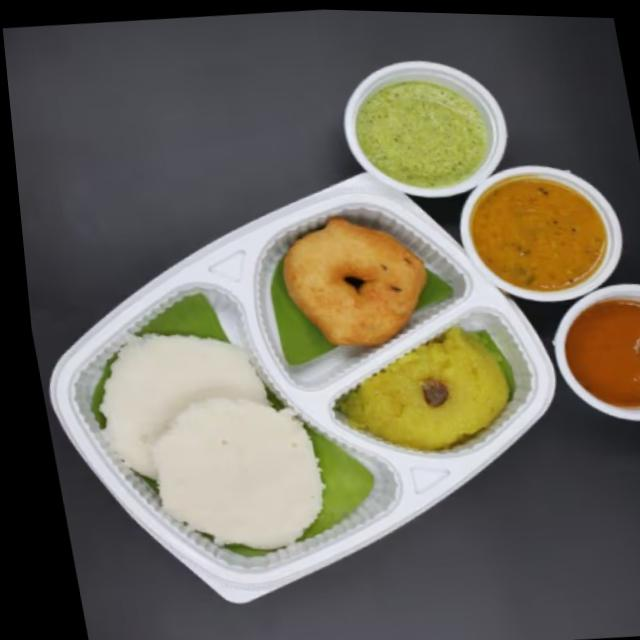GREEN CHUTNEY: (355, 80, 486, 186)
IDLI: (95, 332, 320, 549)
RED CHUTNEY: (566, 299, 640, 408)
SAMBAR: (477, 180, 604, 286)
SWEET: (341, 331, 511, 451)
VADA: (283, 214, 426, 347)
